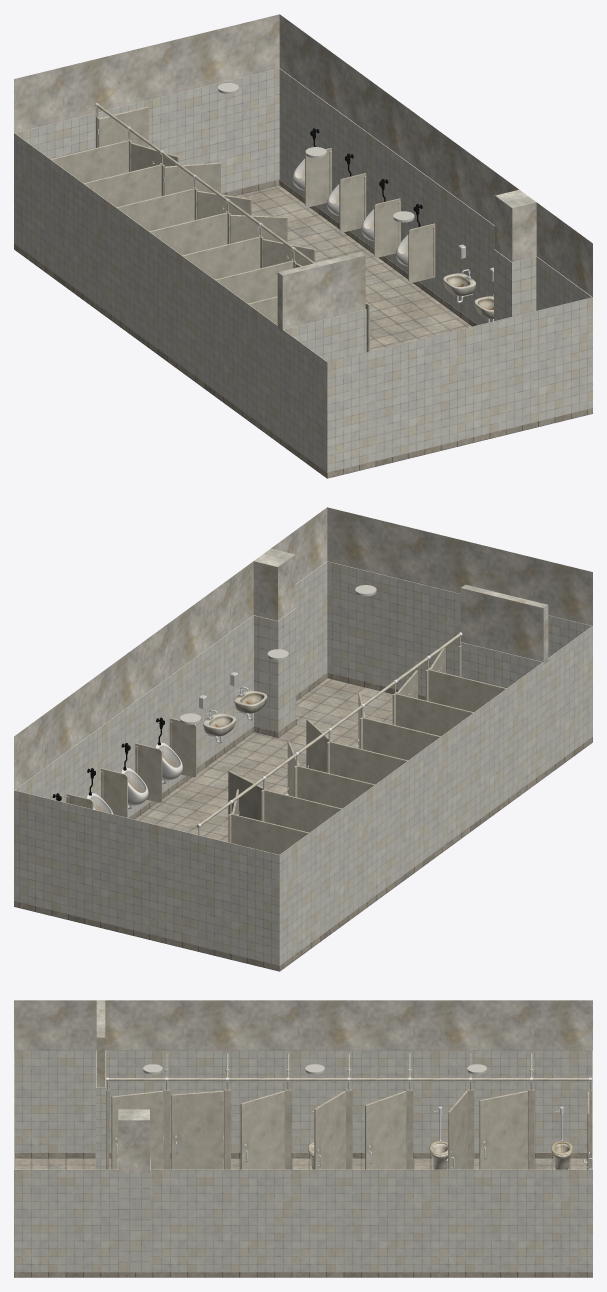
The model's file is restroom.glb.
3 renders of one model, top to bottom at view 1: azimuth 30°, elevation 25°; view 2: azimuth 150°, elevation 25°; view 3: azimuth 270°, elevation 25°, orthographic. The views are drawn at different scales.
Parts seen in each view (by area): view 1: wall-tiles, paint, floor, stalls, urinal-dividers, pillar-tiles, stall-door-8, stall-door-6, stall-door-4, urinals, stall-door-5, stall-door-3 (+3 smaller); view 2: wall-tiles, paint, floor, stalls, pillar-tiles, urinal-dividers, urinals, sinks, stall-door-6, stall-door-4, light-fixtures; view 3: wall-tiles, paint, floor, stalls, stall-door-2, stall-door-7, pillar-tiles, stall-door-3, stall-door-5, stall-door-4, stall-door-1, stall-door-6 (+2 smaller).
Boxes of the visible parts, x1,y1,x2,y2 form: wall-tiles: (14, 68, 592, 472); paint: (14, 14, 592, 331); floor: (14, 179, 592, 478); stalls: (51, 103, 314, 324); urinal-dividers: (305, 148, 435, 282); pillar-tiles: (494, 249, 536, 320); stall-door-8: (97, 106, 148, 147); stall-door-6: (163, 162, 220, 195); stall-door-4: (229, 214, 287, 243); urinals: (292, 158, 408, 266); stall-door-5: (196, 191, 251, 219); stall-door-3: (262, 239, 315, 267); wall-tiles: (14, 561, 592, 965); paint: (14, 507, 592, 789); floor: (14, 672, 592, 971); stalls: (196, 632, 506, 854); pillar-tiles: (254, 608, 296, 731); urinal-dividers: (66, 718, 196, 817); urinals: (86, 742, 182, 813); sinks: (203, 690, 267, 736); stall-door-6: (228, 770, 262, 820); stall-door-4: (306, 719, 332, 772); light-fixtures: (180, 585, 376, 724); wall-tiles: (14, 1050, 592, 1272); paint: (14, 1000, 592, 1172); floor: (14, 1152, 592, 1277); stalls: (106, 1053, 592, 1169); stall-door-2: (171, 1090, 223, 1169); stall-door-7: (479, 1091, 527, 1169); pillar-tiles: (117, 1158, 150, 1272); stall-door-3: (240, 1091, 284, 1169); stall-door-5: (365, 1091, 406, 1169); stall-door-4: (314, 1091, 345, 1169); stall-door-1: (111, 1090, 163, 1169); stall-door-6: (446, 1091, 467, 1169).
Bounding box in the file's own units: 4.9 × 3.01 × 10.
Materials: 12 (4 with a texture image).
